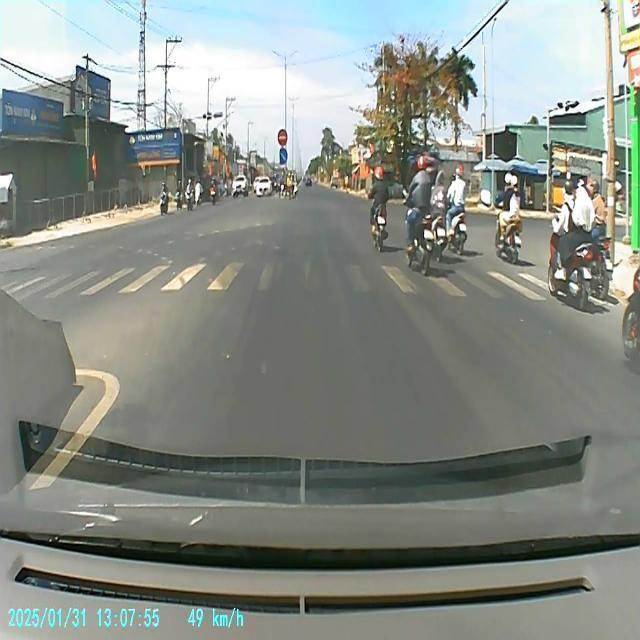102-cam-di-nguoc-chieu: (276, 128, 288, 148)
302a-huong-phai-di-vong-chuong-ngai-vat-1: (278, 148, 288, 164)
